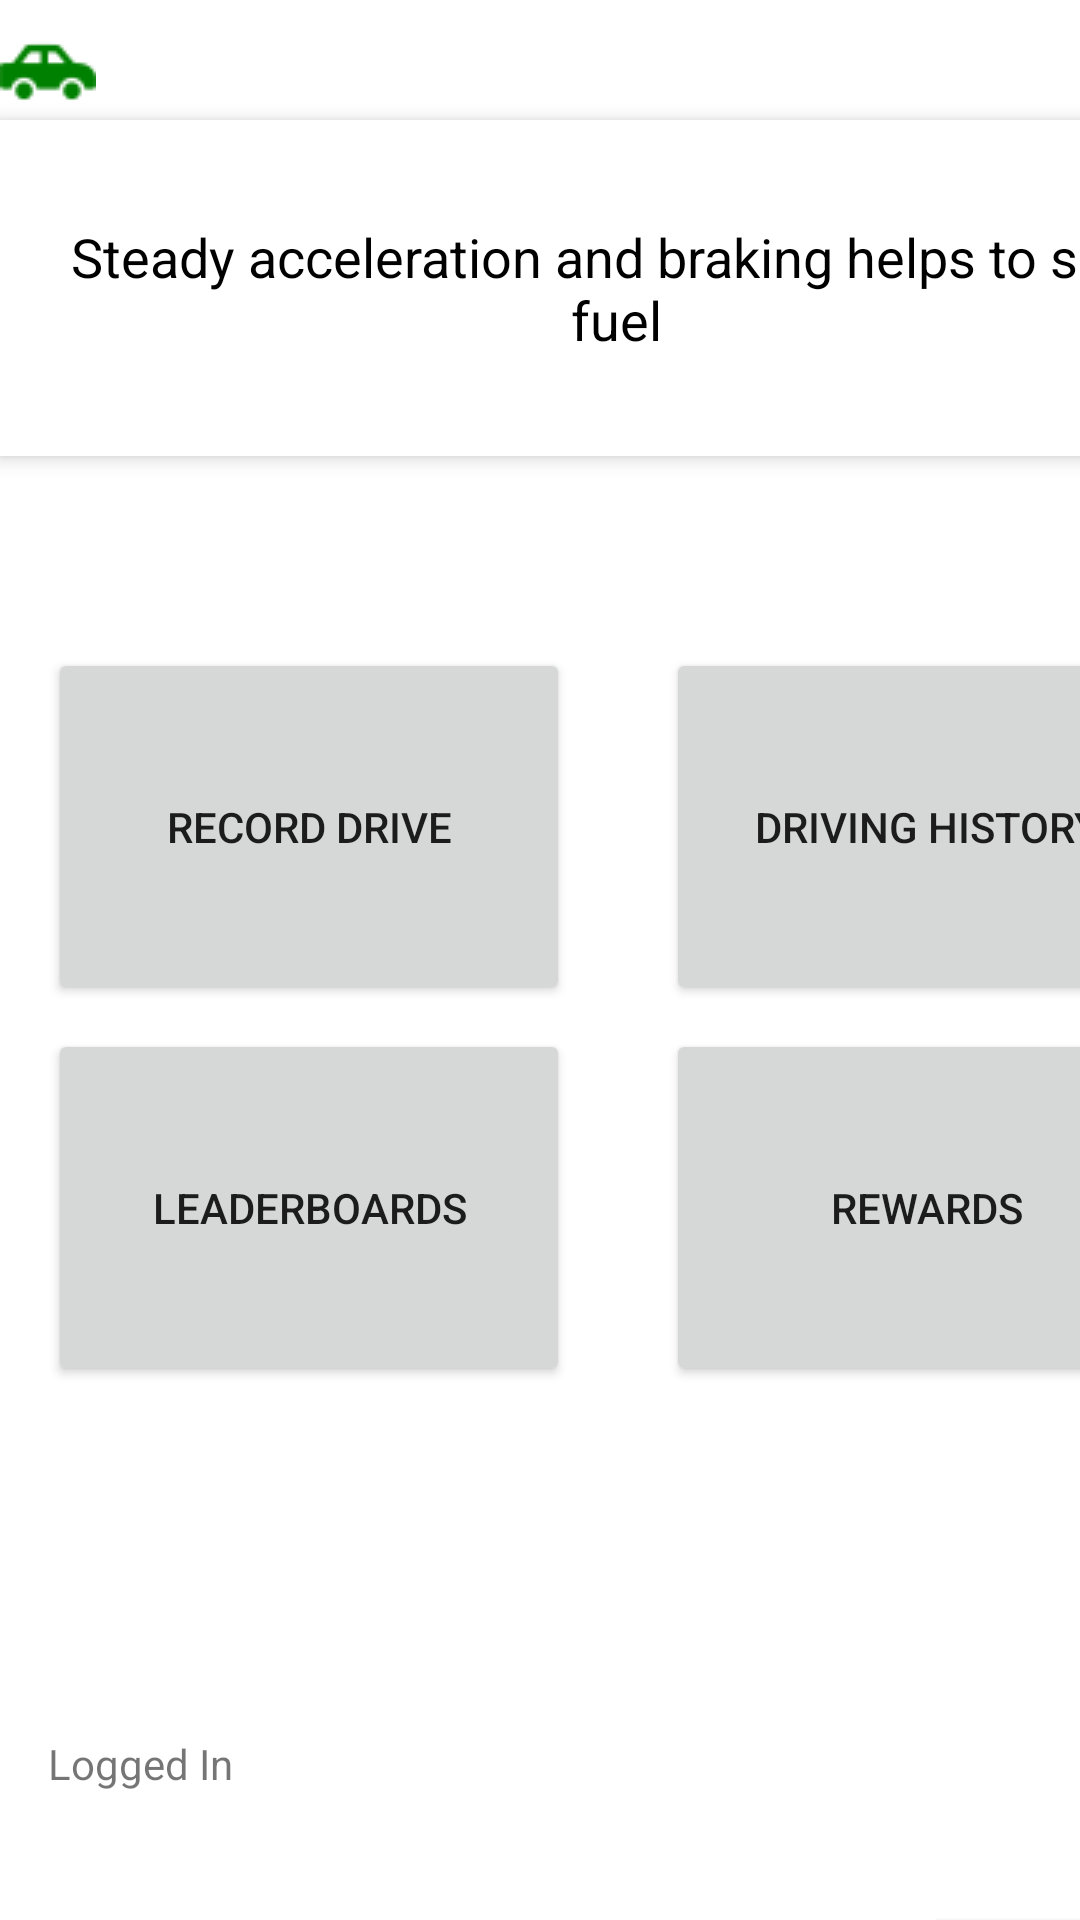

Icons on this 1080×1920 Android screen, each with its box as (x1, y1, x2, y2):
car: (0, 44, 96, 100)
